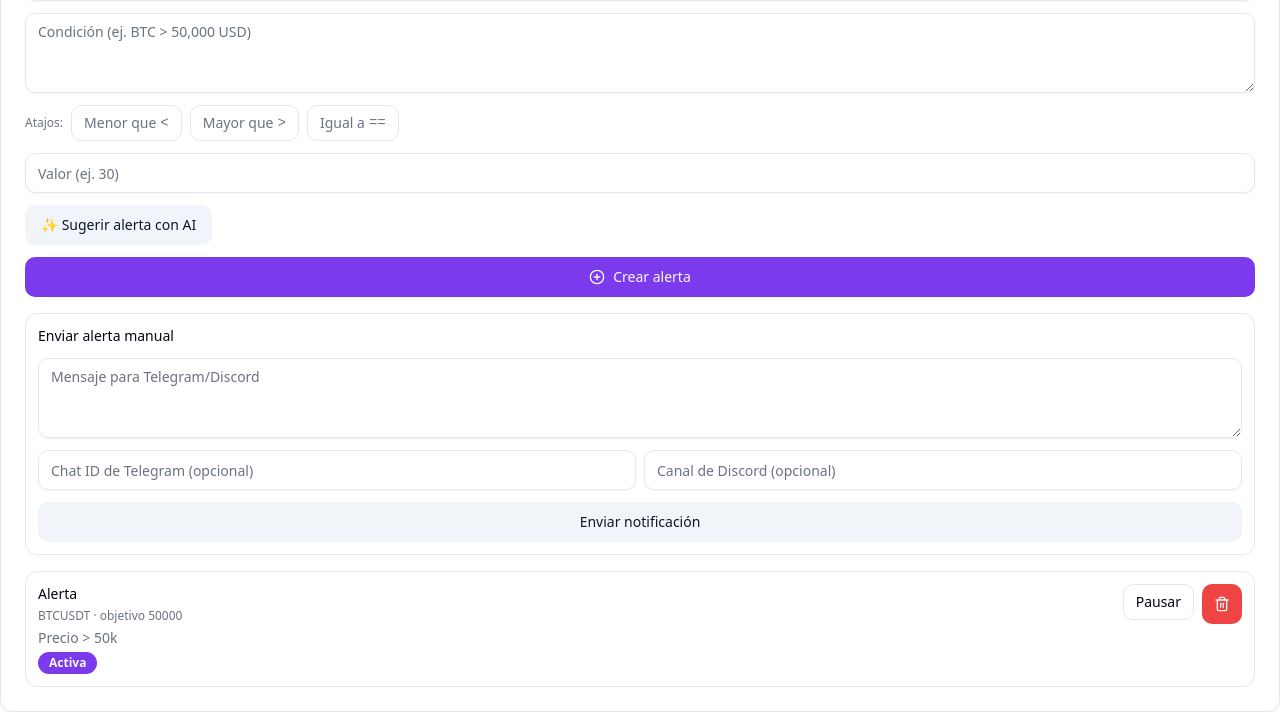
it: AlertsPanel › muestra un error si la API falla al eliminar
(page scrolled)
Click the button named "eliminar alerta". click: (1222, 604)
box: [1202, 584, 1242, 624]
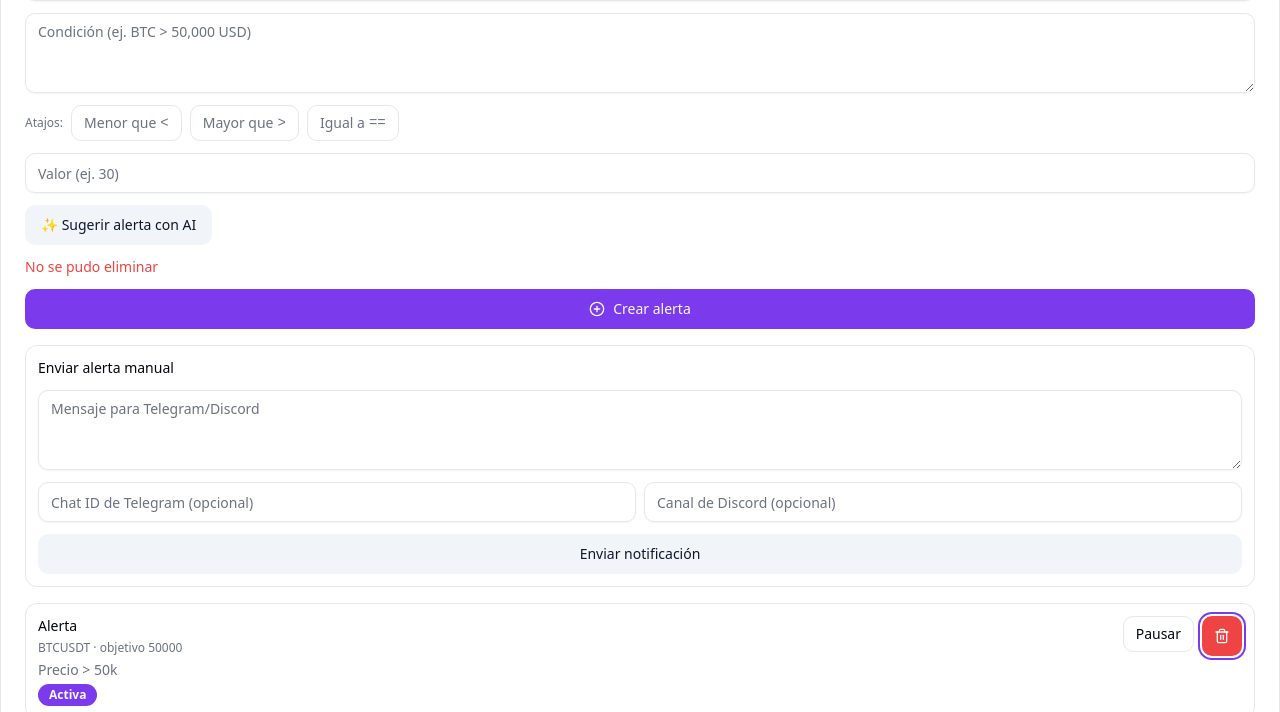
Expected: the text "No se pudo eliminar" is shown, [25, 257, 158, 276]
